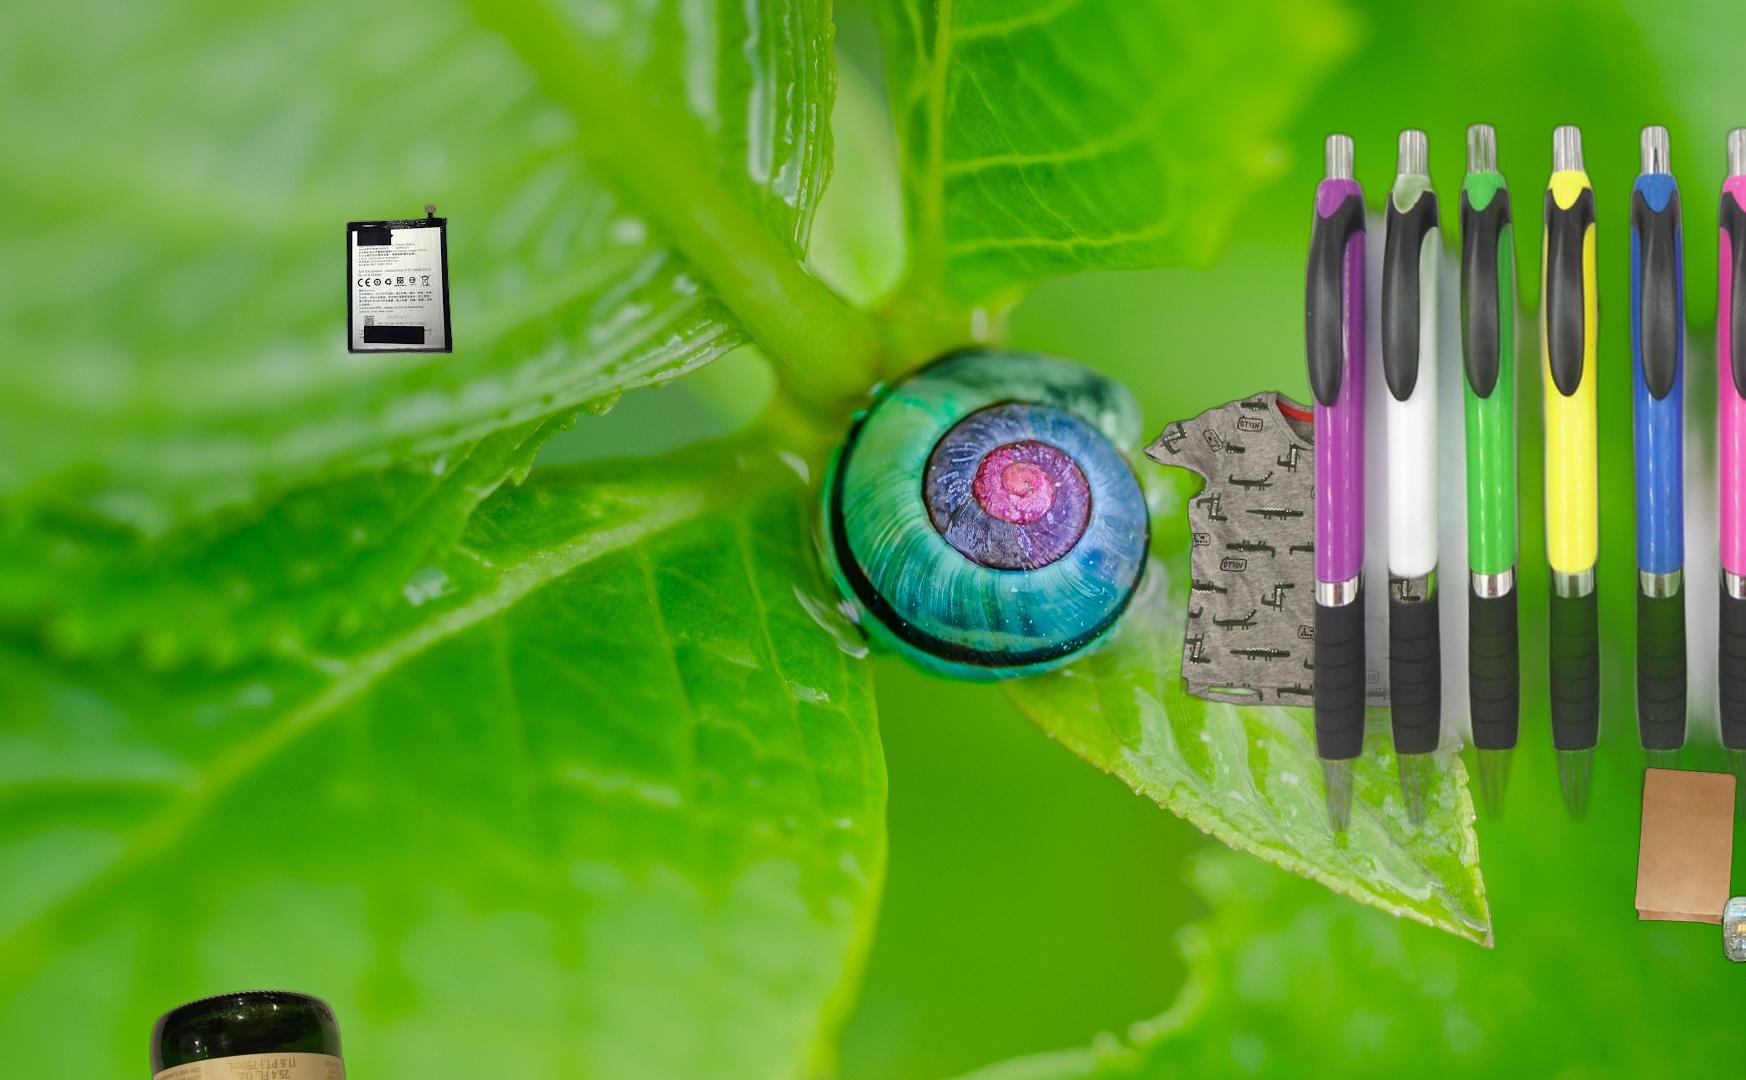battery: (343, 202, 456, 357)
clothes: (1140, 367, 1470, 717)
glass: (145, 986, 375, 1080), (1719, 887, 1746, 969)
paper-bag: (1621, 700, 1746, 929)
penholder: (1297, 116, 1746, 843)
